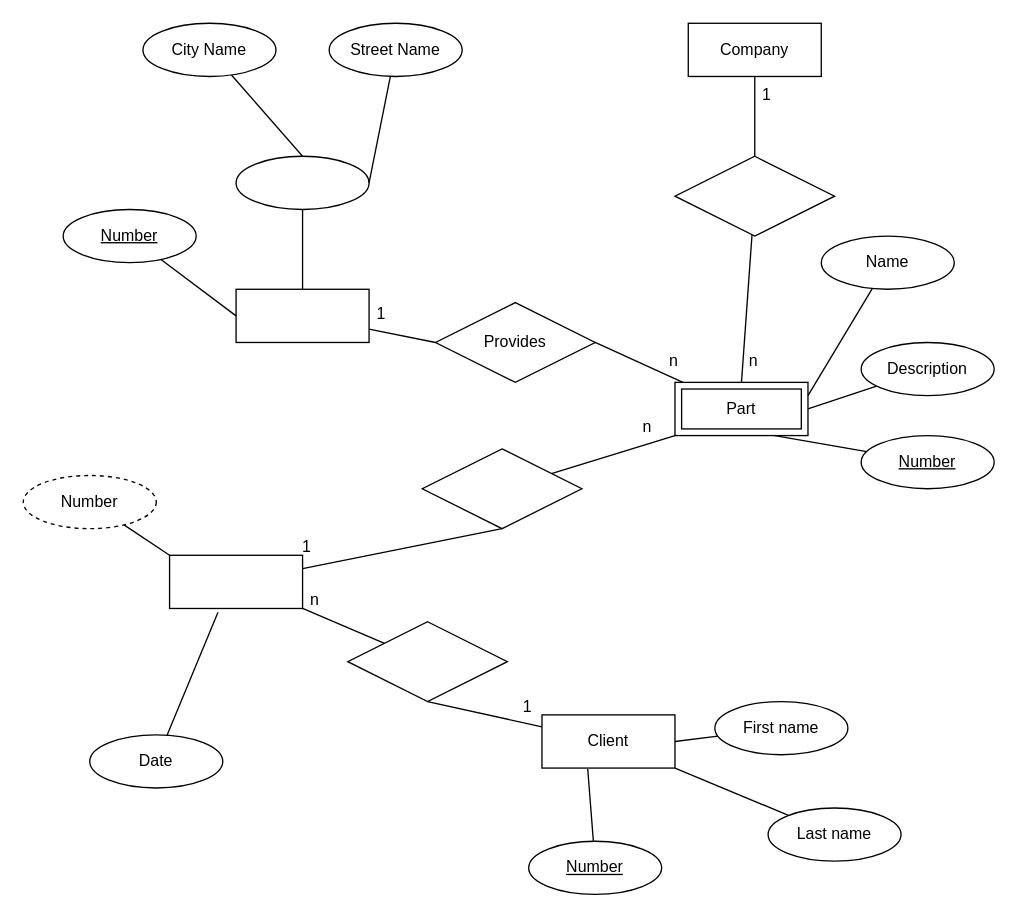
Some shapes in this 1017 by 918 pixel diagram are drawn without their labels. Each missing label, with the box of its shape:
Address: (235, 155, 369, 209)
Belongs: (674, 155, 835, 236)
Contains: (421, 448, 582, 529)
Order: (168, 554, 303, 608)
Orders: (346, 620, 507, 702)
Supplier: (235, 288, 369, 342)
